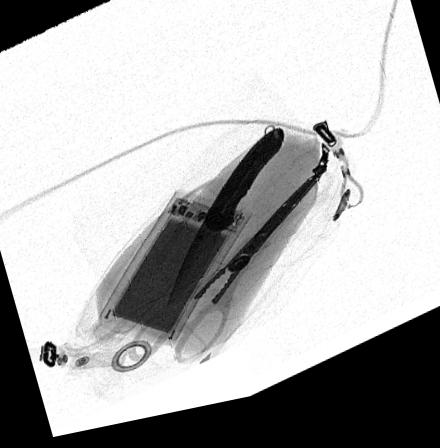Knife: (156, 139, 284, 329)
Powerbank: (93, 196, 251, 351)
Scissors: (129, 184, 326, 369)
